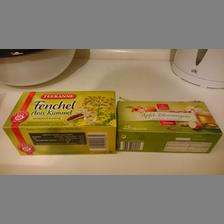Tee: (1, 88, 117, 155), (116, 98, 220, 154)
